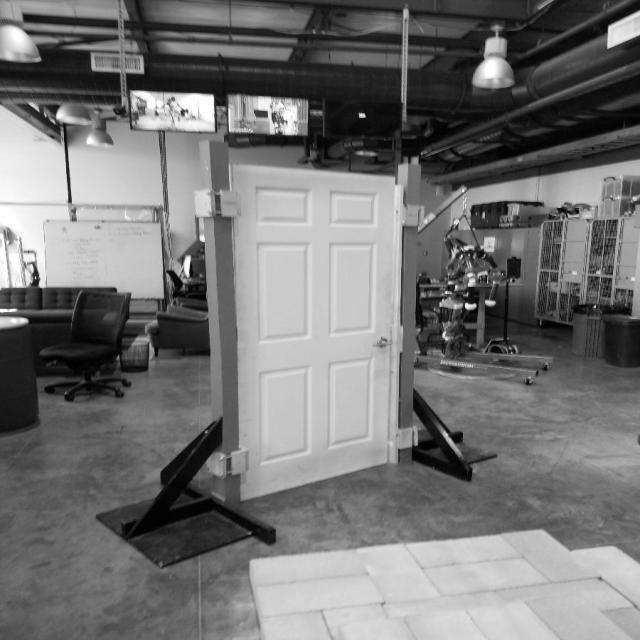door: (220, 161, 396, 500), (370, 334, 393, 352)
